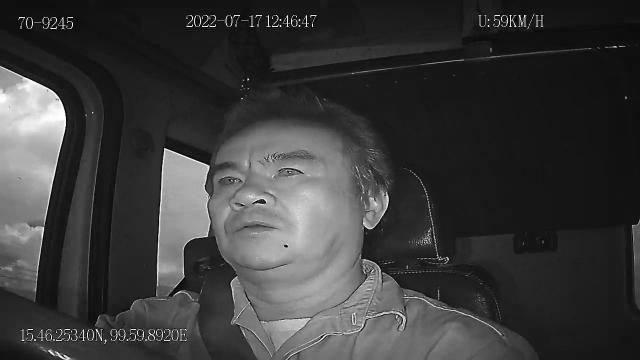SafeDriving: (262, 154, 314, 186), (211, 166, 248, 192)
Seatbelt: (194, 270, 260, 360)
